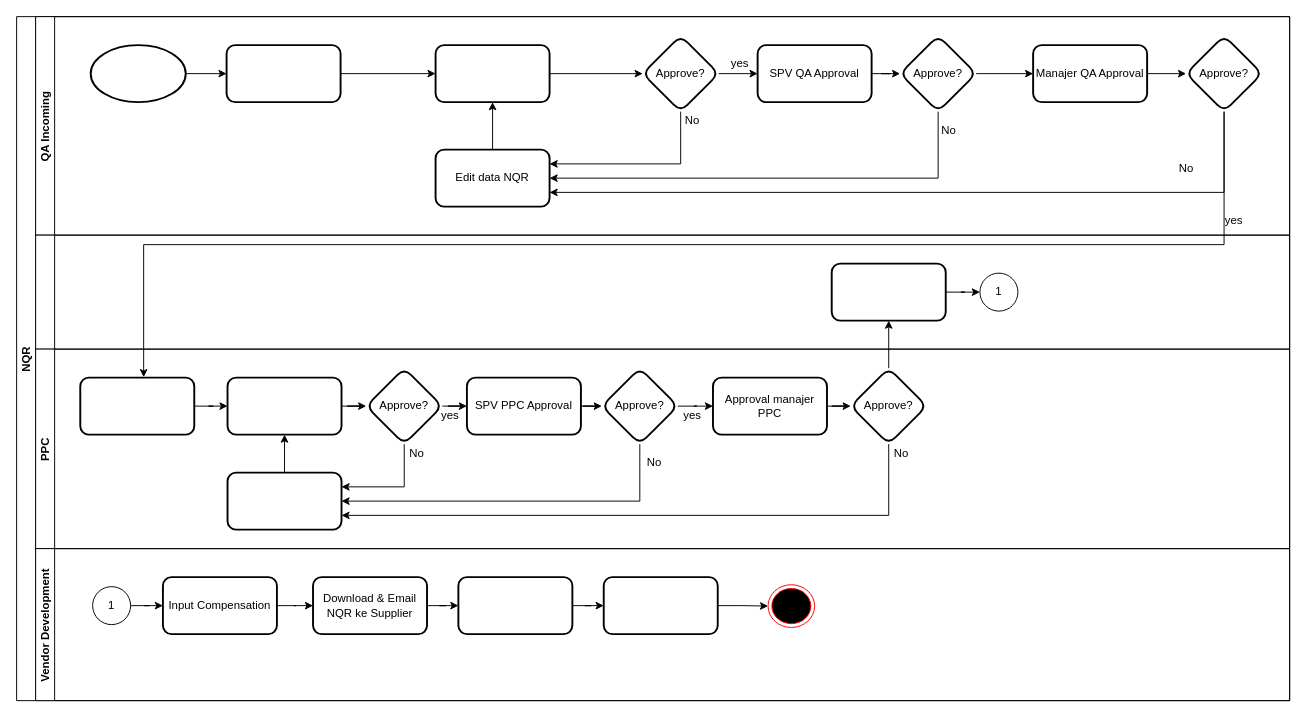
This 1306x717 diagram has some shape labels left out. Each missing label, with the box of its shape:
Control NQR: (602, 576, 718, 635)
Edit Judgement: (226, 471, 342, 530)
Foreman PPC Approval: (226, 376, 342, 435)
Foreman PPC Judgement: (79, 376, 195, 435)
Foreman QA Approval: (434, 44, 550, 103)
Pembuatan NQR & upload attachments: (225, 44, 341, 103)
Publish vdd NQR: (830, 262, 946, 321)
Release ke supplier: (457, 576, 573, 635)
Start: (89, 44, 186, 103)
System: (35, 234, 1290, 349)
